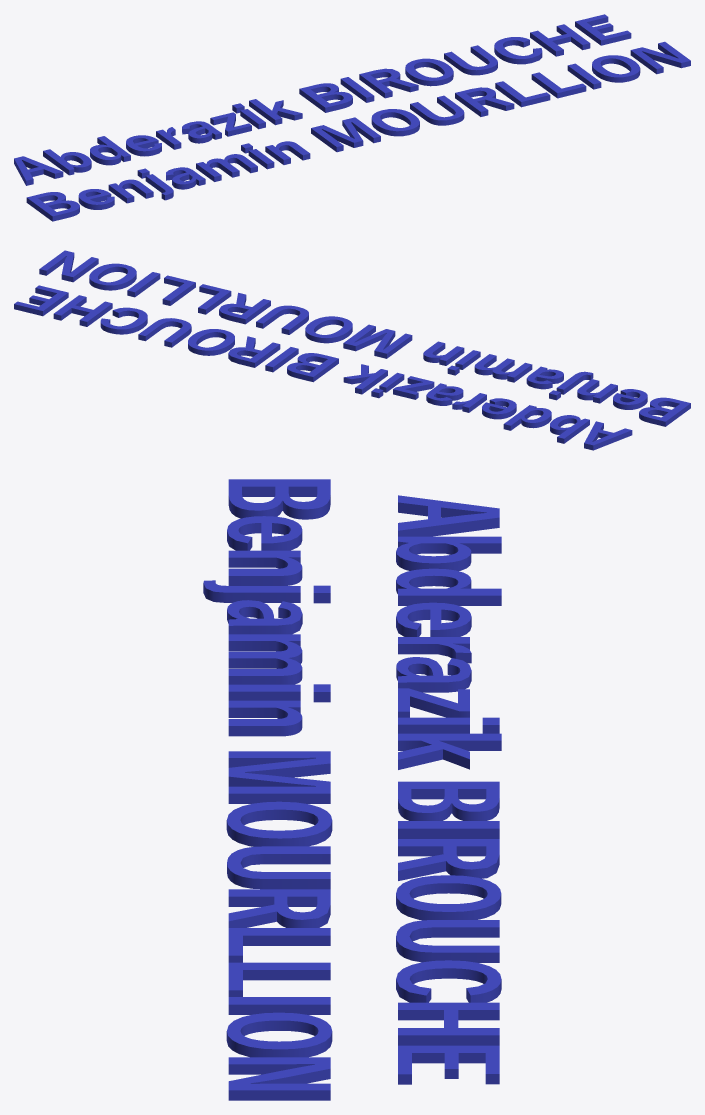
File: Abderazik BIROUCHE Benjamin MOURLLION.fbx
The picture shows the model from 3 angles, top to bottom: view 1: azimuth 30°, elevation 25°; view 2: azimuth 150°, elevation 25°; view 3: azimuth 270°, elevation 25°; orthographic projection. The views are drawn at different scales.
Visible parts, largest first — view 1: node_id220 (×2); view 2: node_id220 (×2); view 3: node_id220 (×2).
Part boxes in pixels (x1,y1,x2,y2): node_id220 (×2): (14, 14, 690, 221); node_id220 (×2): (14, 250, 690, 450); node_id220 (×2): (203, 479, 501, 1100).
Bounding box in the file's own units: 2.38 × 0.0188 × 0.4913.
